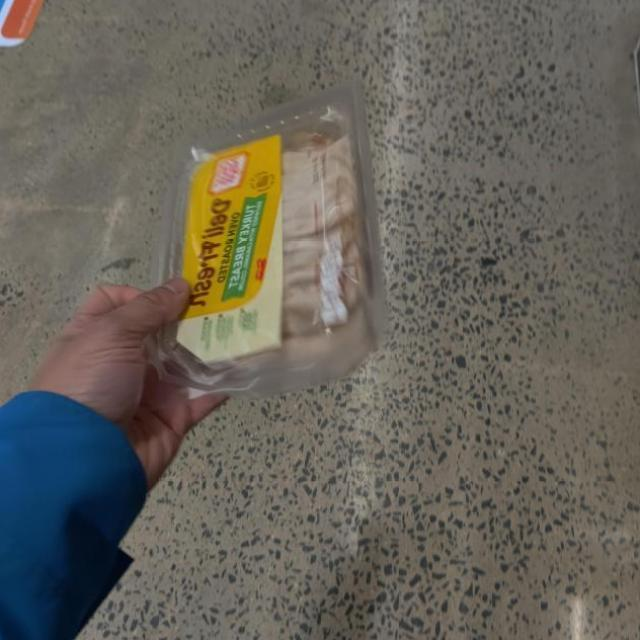Meat: (149, 66, 379, 412)
